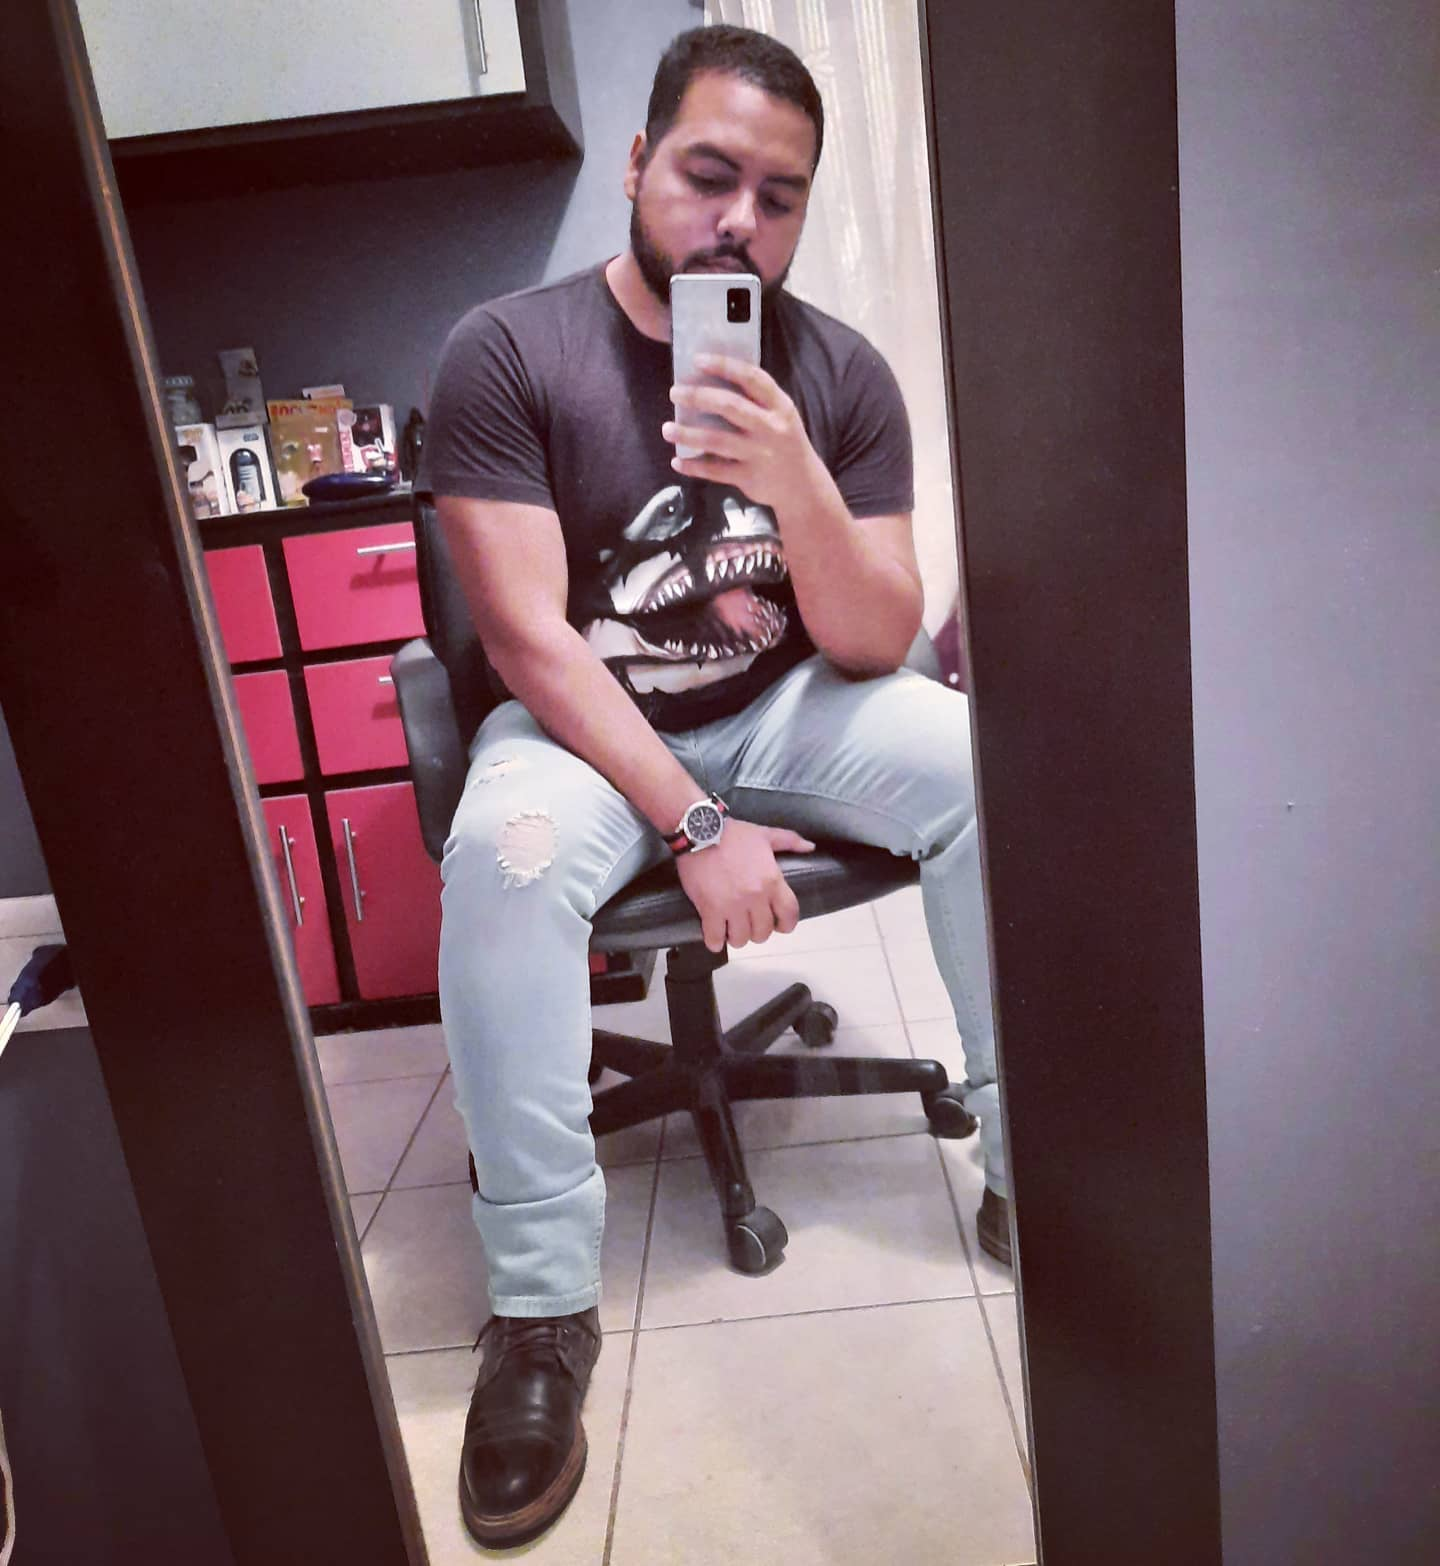Yoshi: (385, 16, 1010, 992)
